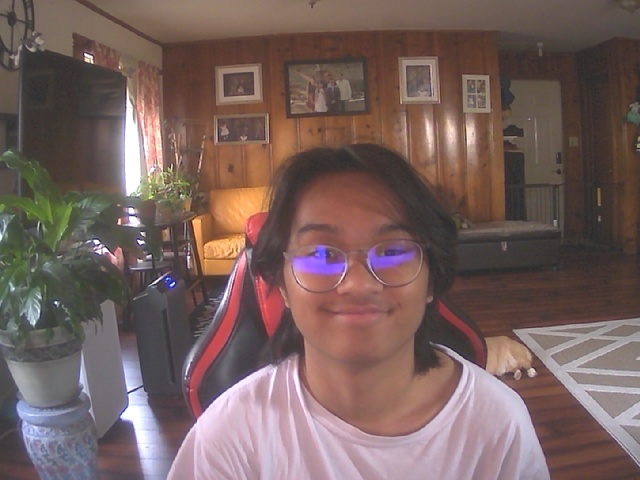happy: (276, 155, 441, 366)
